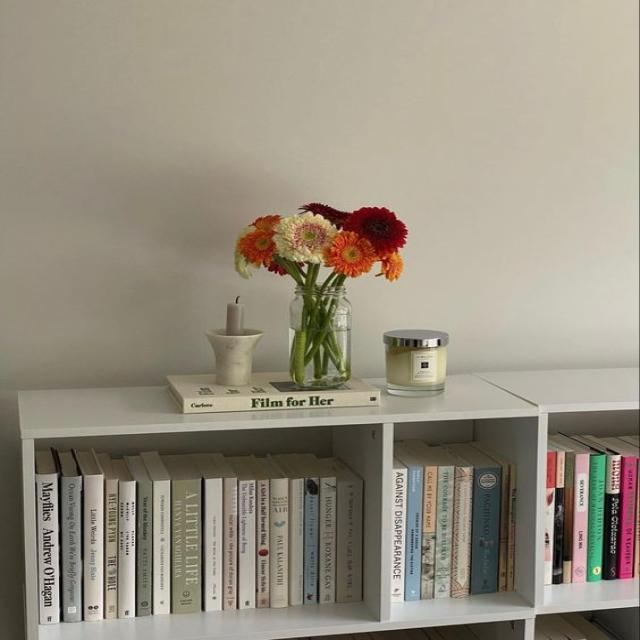book: (168, 372, 380, 413), (78, 452, 103, 621), (470, 466, 502, 594), (171, 479, 201, 613), (36, 452, 59, 624), (335, 471, 362, 602), (61, 477, 82, 622), (450, 466, 471, 597), (433, 466, 453, 598), (203, 478, 222, 612), (118, 481, 136, 617), (587, 454, 606, 581), (237, 480, 255, 609), (570, 453, 588, 582), (270, 480, 288, 607), (152, 480, 169, 614), (616, 456, 634, 579), (498, 463, 515, 591), (390, 467, 406, 602), (319, 477, 336, 603), (404, 467, 420, 600), (420, 466, 436, 599), (137, 479, 152, 615), (288, 480, 304, 605), (303, 479, 319, 603), (222, 478, 237, 610), (104, 478, 118, 618), (603, 455, 618, 580), (255, 480, 269, 607), (545, 450, 557, 585)
candle: (205, 303, 261, 386), (385, 330, 447, 396)
flowers: (235, 203, 407, 385)
